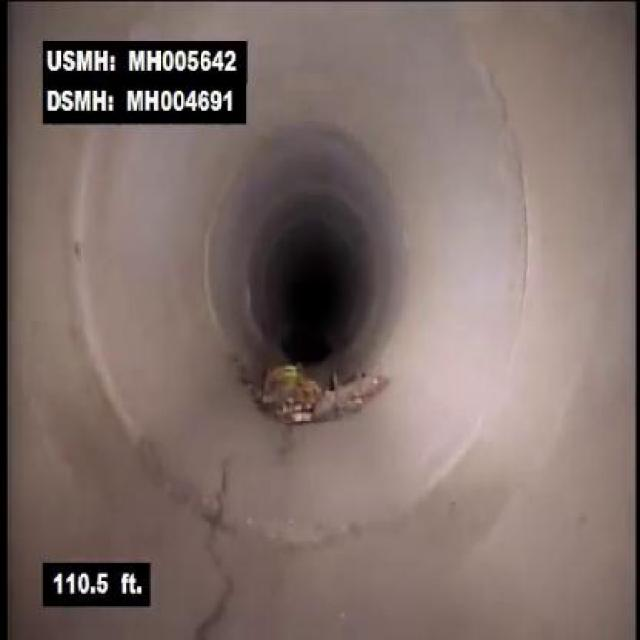Debris: (238, 337, 382, 440)
